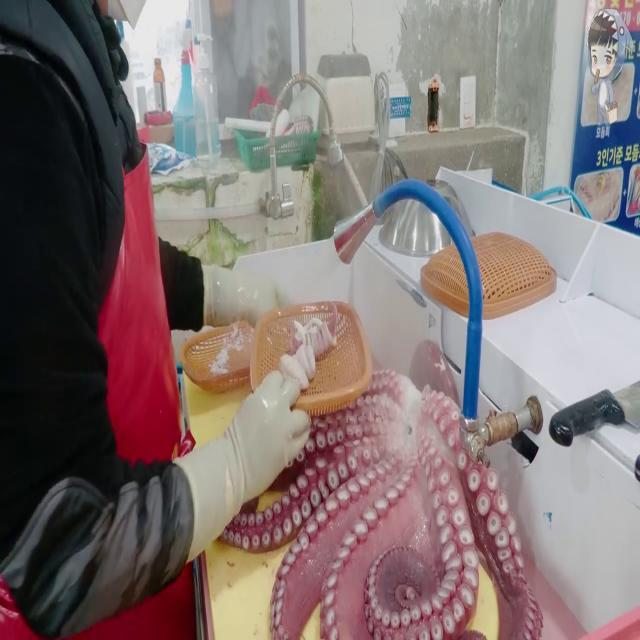octopus: (194, 354, 546, 640)
